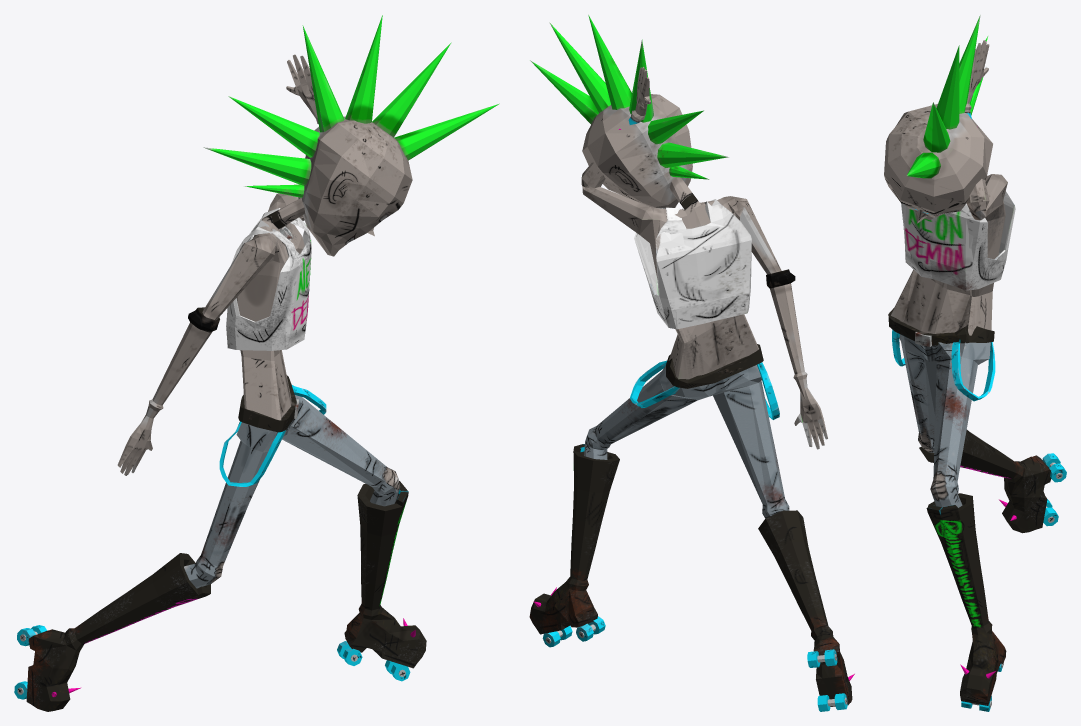
File: punkAnimation_000043.obj
3 renders of one model, left to right at view 1: azimuth 30°, elevation 25°; view 2: azimuth 150°, elevation 25°; view 3: azimuth 270°, elevation 25°, orthographic. The views are drawn at different scales.
Visible parts, largest first — view 1: Cube.004_Cube.003; view 2: Cube.004_Cube.003; view 3: Cube.004_Cube.003.
Part boxes in pixels (x1,y1,x2,y2): Cube.004_Cube.003: [14, 15, 499, 711]; Cube.004_Cube.003: [529, 15, 854, 711]; Cube.004_Cube.003: [884, 15, 1066, 711].
Bounding box in the file's own units: 4.36 × 6.83 × 1.73.
